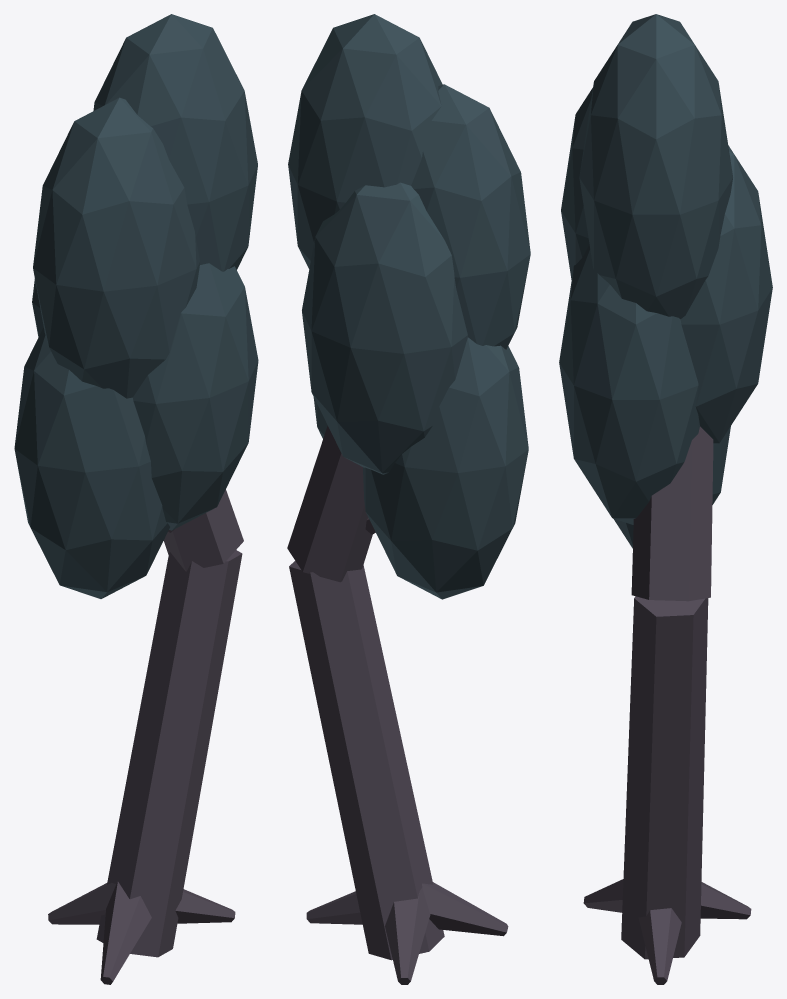
The model's file is map-boundaries-v5__grave_09.glb.
The picture shows the model from 3 angles, left to right: view 1: azimuth 30°, elevation 25°; view 2: azimuth 150°, elevation 25°; view 3: azimuth 270°, elevation 25°; orthographic projection. The views are drawn at different scales.
Parts seen in each view (by area): view 1: grave_09; view 2: grave_09; view 3: grave_09.
Part boxes in pixels (x1=…): grave_09: x1=14, y1=14, x2=258, y2=984; grave_09: x1=287, y1=14, x2=530, y2=984; grave_09: x1=559, y1=14, x2=772, y2=984.
Bounding box in the file's own units: 0.9721 × 3.94 × 0.8059.
